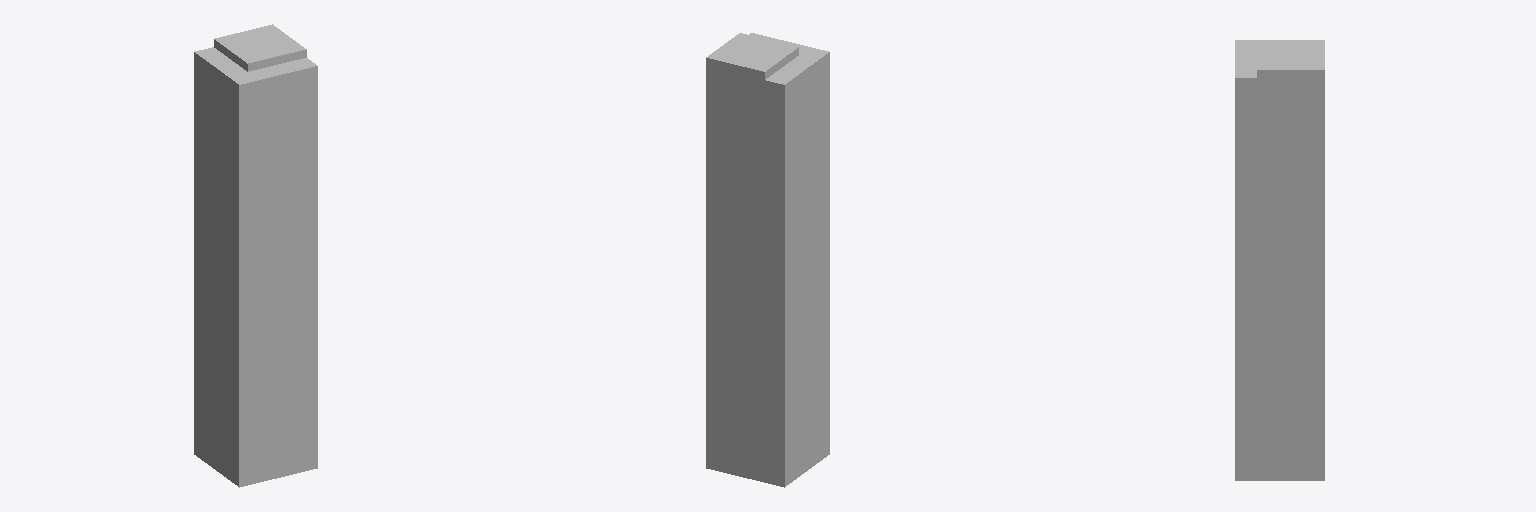
Rendered from Tall Building Model.obj.
3 views of the same model, side by side, from view 1: azimuth 30°, elevation 25°; view 2: azimuth 150°, elevation 25°; view 3: azimuth 270°, elevation 25° (orthographic).
Size of the model in its own units: 20 by 100 by 20.